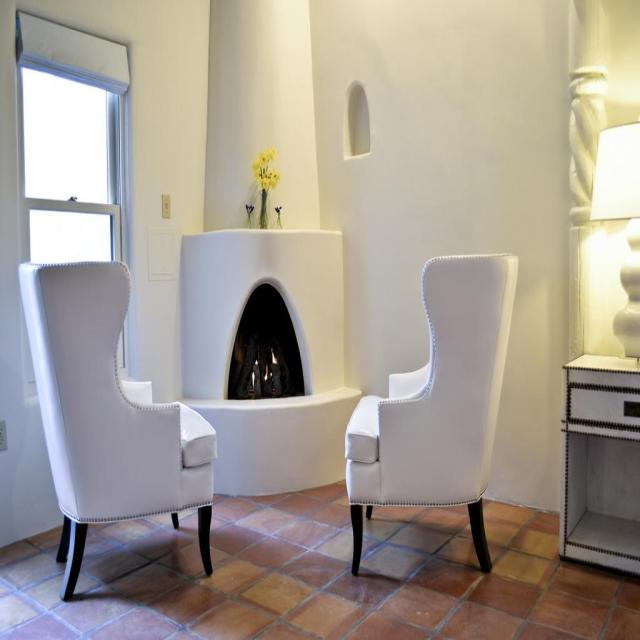Fire: (249, 338, 281, 397)
